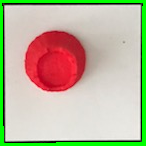Red Castle: (22, 28, 89, 93)
